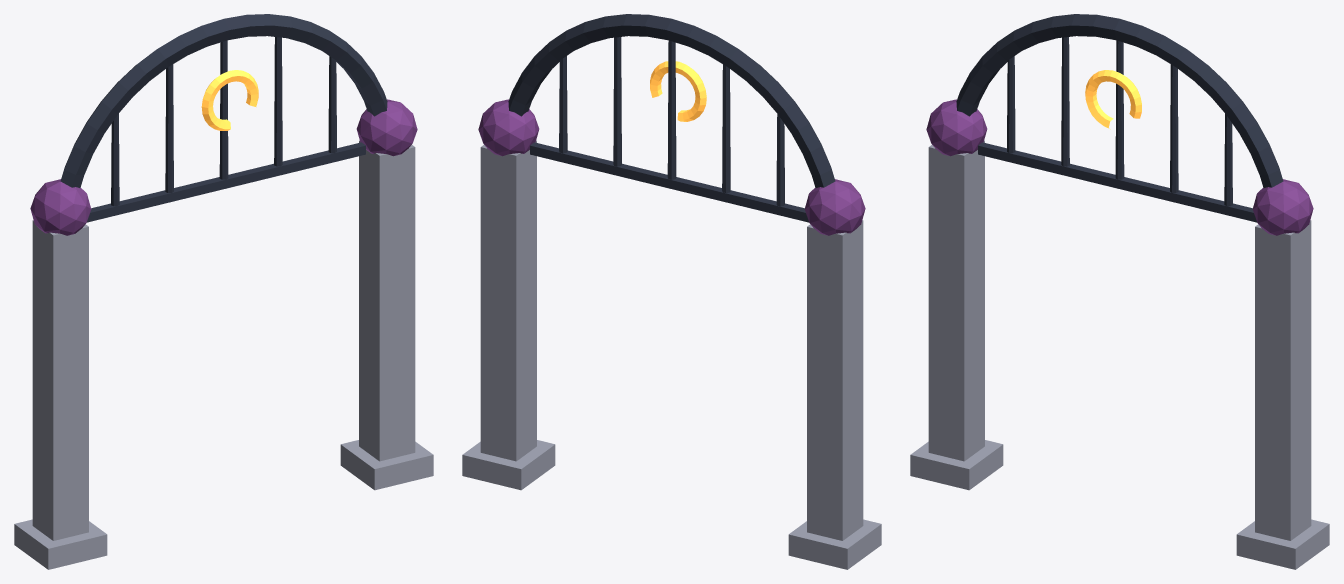
File: moonlit-mischief-graveyard-arch-37f5b1dc__2219.glb
3 views of the same model, side by side, from view 1: azimuth 30°, elevation 25°; view 2: azimuth 150°, elevation 25°; view 3: azimuth 330°, elevation 25° (orthographic).
Parts seen in each view (by area): view 1: graveyard-arch; view 2: graveyard-arch; view 3: graveyard-arch.
Part boxes in pixels (<box>): graveyard-arch: <box>14,14,433,569</box>; graveyard-arch: <box>462,14,881,569</box>; graveyard-arch: <box>910,14,1329,569</box>.
Size of the model in its own units: 2.48 by 3.03 by 0.3799.
